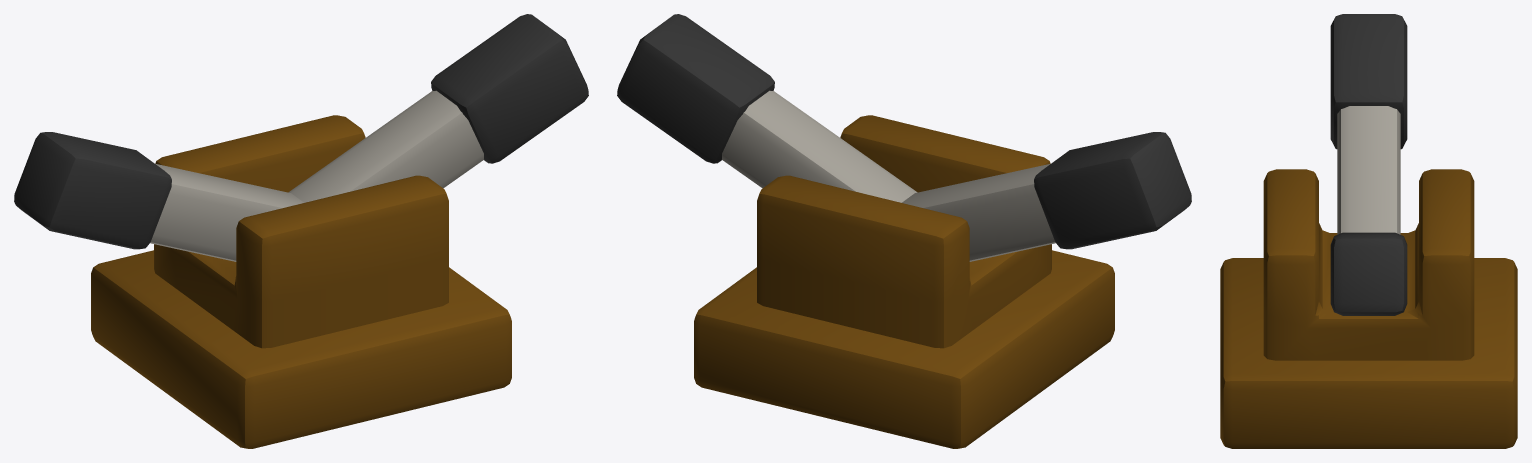
File: lever.glb
3 renders of one model, left to right at view 1: azimuth 30°, elevation 25°; view 2: azimuth 150°, elevation 25°; view 3: azimuth 270°, elevation 25°, orthographic. The views are drawn at different scales.
Visible parts, largest first — view 1: lever, lever_off, lever_on; view 2: lever, lever_off, lever_on; view 3: lever, lever_on, lever_off.
Part boxes in pixels (bbox=[...]): lever: bbox=[91, 115, 511, 448]; lever_off: bbox=[288, 14, 588, 202]; lever_on: bbox=[14, 132, 303, 261]; lever: bbox=[694, 115, 1114, 448]; lever_off: bbox=[617, 14, 917, 202]; lever_on: bbox=[902, 132, 1191, 261]; lever: bbox=[1220, 169, 1517, 448]; lever_on: bbox=[1330, 14, 1407, 234]; lever_off: bbox=[1330, 232, 1407, 315].
Size of the model in its own units: 0.8401 by 0.4151 by 0.4231.
